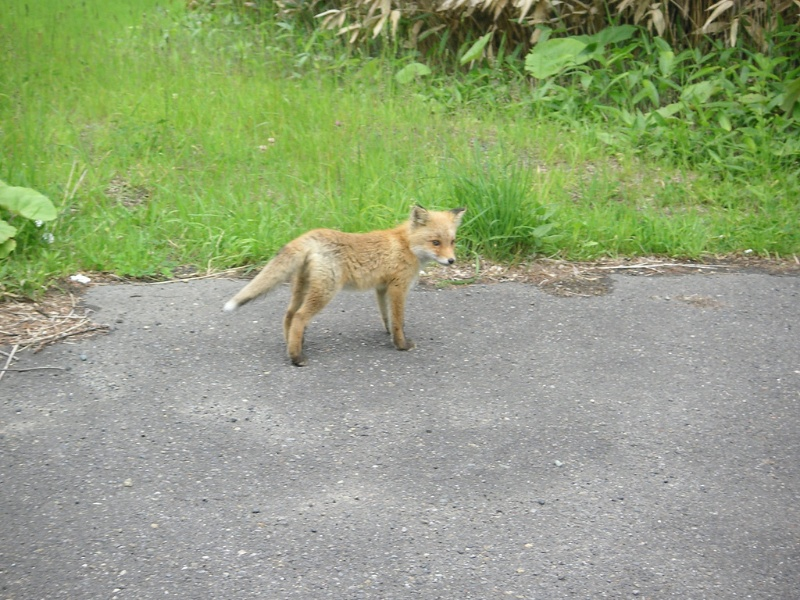fox: (222, 201, 471, 375)
